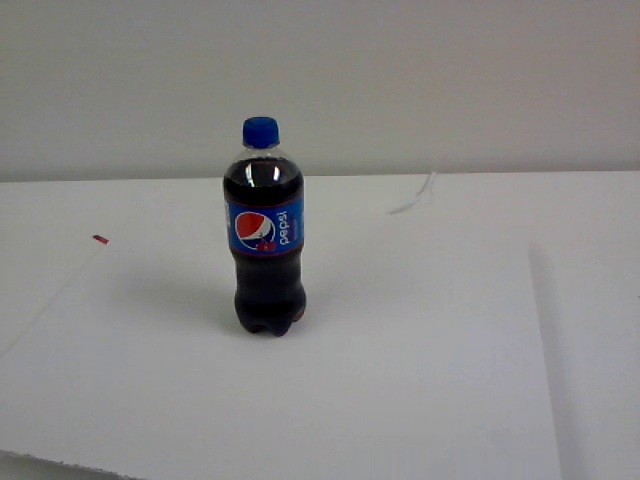botolplastik: (224, 118, 306, 335)
